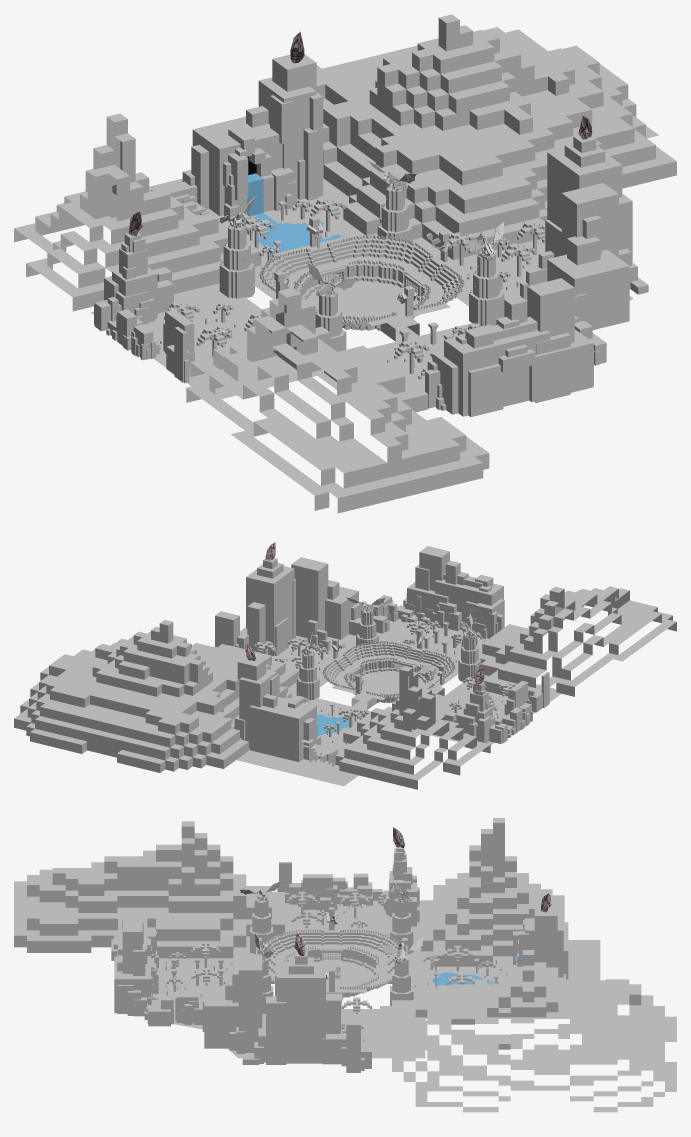
The model's file is Coliseum.fbx.
3 renders of one model, top to bottom at view 1: azimuth 30°, elevation 25°; view 2: azimuth 150°, elevation 25°; view 3: azimuth 270°, elevation 25°, orthographic. The views are drawn at different scales.
Visible parts, largest first — view 1: Rock_4, Rock_7, Rock_2, Rock_6, Rock_3, Rock_5, Coliseum, Sand, Rock_1, Tower_4, Tower_1, Water (+8 smaller); view 2: Rock_4, Rock_7, Rock_5, Rock_2, Rock_6, Sand, Rock_3, Coliseum, Rock_1, Tower_2, Tower_3, Atlas_1_5 (+7 smaller); view 3: Rock_4, Rock_7, Rock_5, Rock_2, Sand, Rock_6, Coliseum, Rock_1, Rock_3, Tower_2, Tower_3, Atlas_1_5 (+6 smaller).
Boxes of the visible parts, bbox=[...] form: Rock_4: bbox=[314, 14, 676, 259]; Rock_7: bbox=[186, 288, 489, 513]; Rock_2: bbox=[14, 113, 261, 311]; Rock_6: bbox=[425, 278, 606, 416]; Rock_3: bbox=[151, 54, 323, 221]; Rock_5: bbox=[520, 135, 648, 329]; Coliseum: bbox=[254, 234, 469, 341]; Sand: bbox=[90, 178, 633, 398]; Rock_1: bbox=[94, 232, 194, 383]; Tower_4: bbox=[466, 221, 504, 326]; Tower_1: bbox=[219, 194, 257, 298]; Water: bbox=[247, 173, 344, 257]; Rock_4: bbox=[14, 620, 299, 772]; Rock_7: bbox=[478, 586, 676, 696]; Rock_5: bbox=[215, 557, 362, 656]; Rock_2: bbox=[335, 666, 490, 789]; Rock_6: bbox=[371, 546, 504, 639]; Sand: bbox=[236, 618, 561, 786]; Rock_3: bbox=[234, 656, 337, 766]; Coliseum: bbox=[319, 641, 458, 709]; Rock_1: bbox=[444, 672, 549, 743]; Tower_2: bbox=[296, 632, 319, 700]; Tower_3: bbox=[458, 612, 481, 681]; Atlas_1_5: bbox=[403, 621, 485, 662]; Rock_4: bbox=[368, 950, 676, 1112]; Rock_7: bbox=[14, 821, 284, 958]; Rock_5: bbox=[202, 951, 371, 1072]; Rock_2: bbox=[421, 818, 564, 966]; Sand: bbox=[156, 900, 600, 1058]; Rock_6: bbox=[111, 913, 202, 1026]; Coliseum: bbox=[256, 928, 407, 1008]; Rock_1: bbox=[277, 847, 419, 926]; Rock_3: bbox=[512, 905, 568, 979]; Tower_2: bbox=[380, 938, 424, 1005]; Tower_3: bbox=[238, 880, 283, 954]; Atlas_1_5: bbox=[165, 942, 232, 996].
Size of the model in its own units: 239 by 58.75 by 284.
